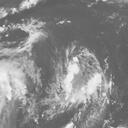cyclone: (56, 50, 101, 100)
